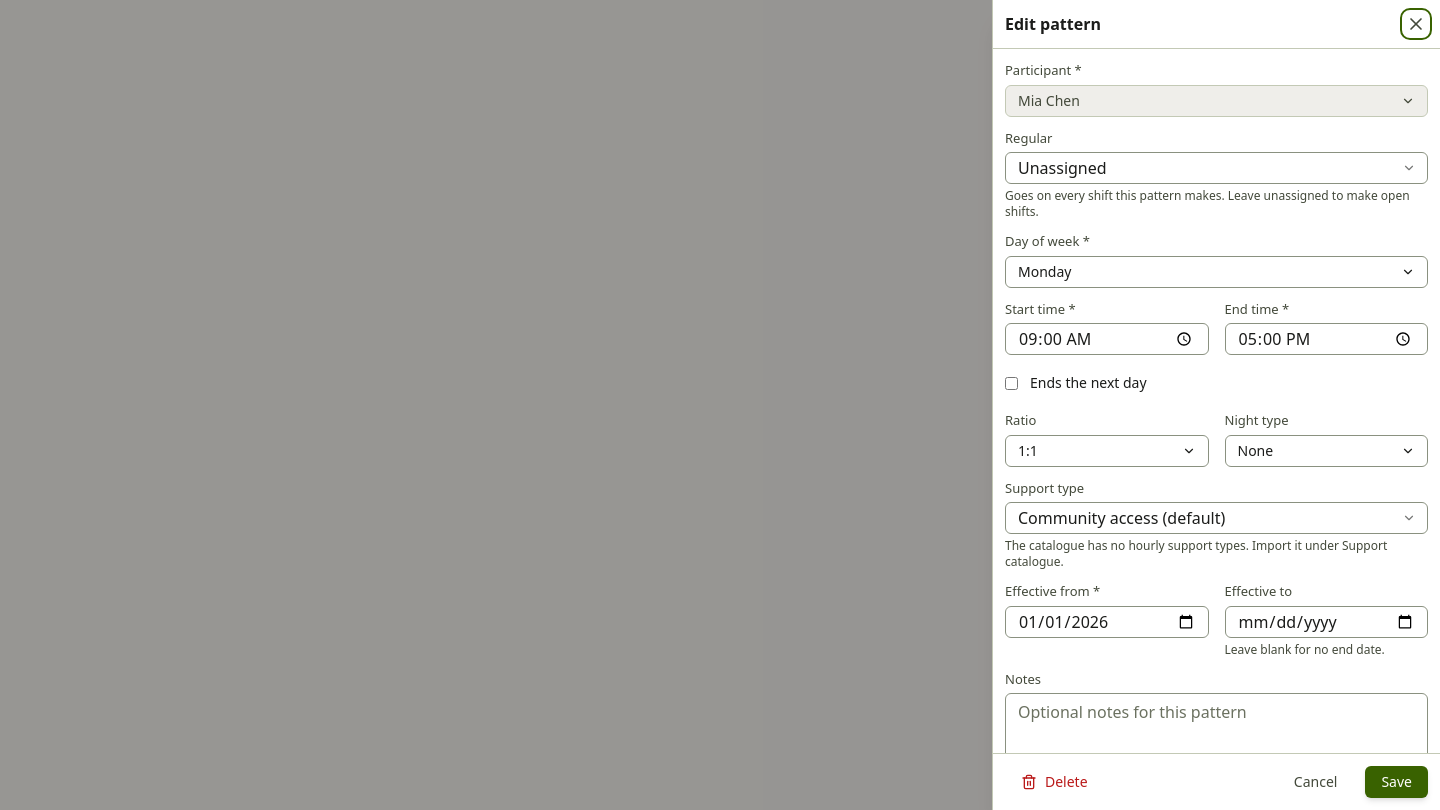
Test: PatternSlideOver Default staff field — SearchableSelect (DS-01/UX-01 migration) › narrows the option list as the user types
This screenshot has width=1440, height=810.
In the dropdown labelled "Regular": {"x": 1216, "y": 168} [1005, 152, 1428, 184], type "bianca"
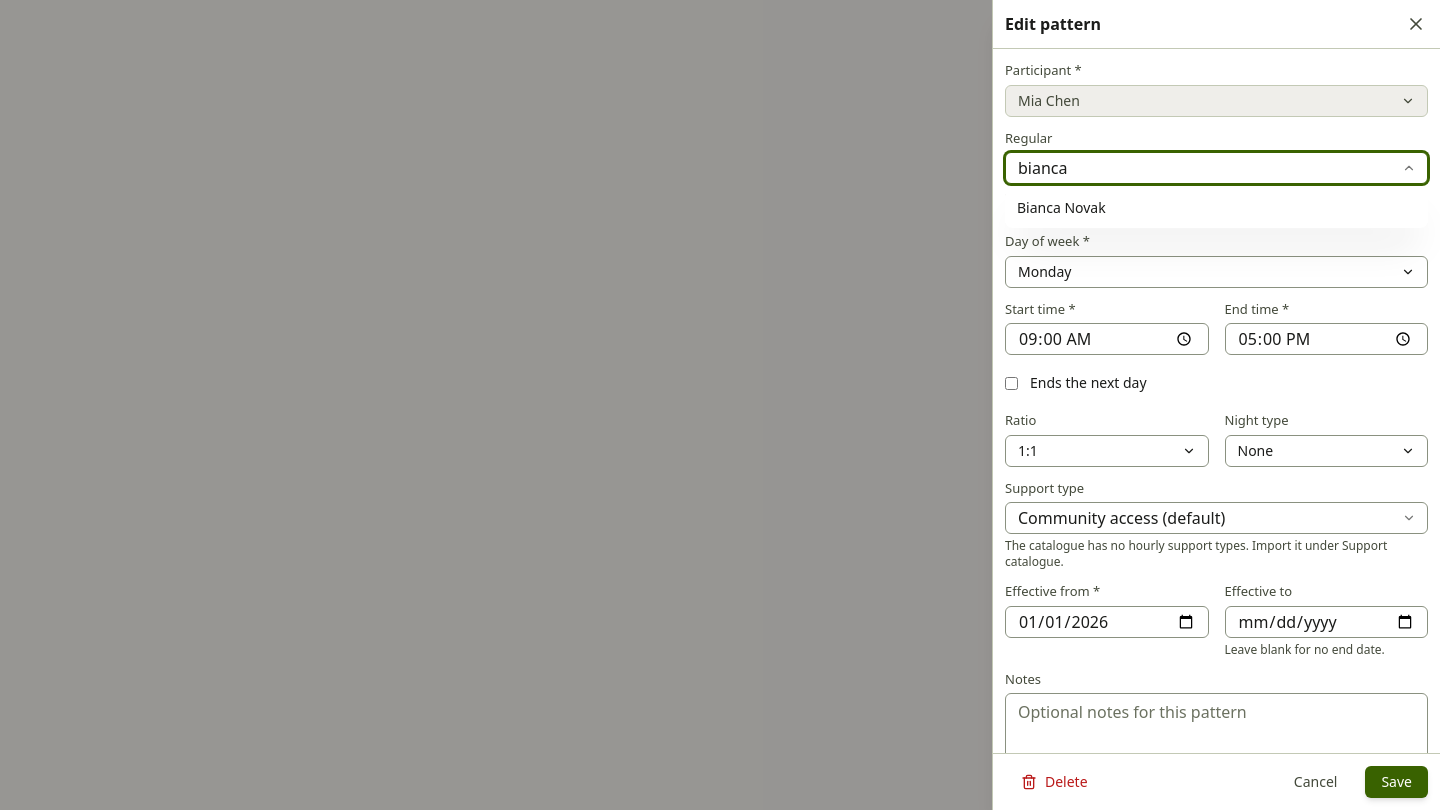
Result: the option reads "Bianca Novak" at [1017, 198, 1106, 217]
Result: the number of options is 1 at [1017, 198, 1106, 217]
